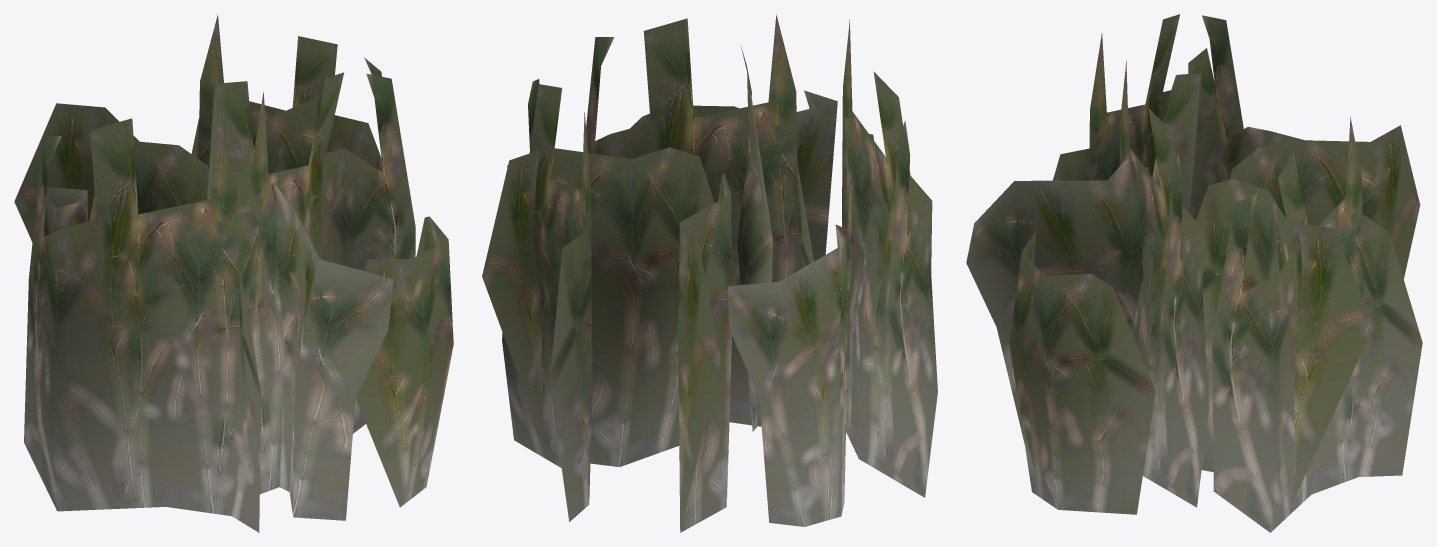
The model's file is proc_sml_reeds_01b.FBX.
The picture shows the model from 3 angles, left to right: view 1: azimuth 30°, elevation 25°; view 2: azimuth 150°, elevation 25°; view 3: azimuth 270°, elevation 25°; orthographic projection. The views are drawn at different scales.
Visible parts, largest first — view 1: proc_sml_reeds_01b; view 2: proc_sml_reeds_01b; view 3: proc_sml_reeds_01b.
Part boxes in pixels (x1,y1,x2,y2): proc_sml_reeds_01b: (14,14,453,532); proc_sml_reeds_01b: (482,14,937,532); proc_sml_reeds_01b: (966,14,1422,532).
Size of the model in its own units: 1.69 by 1.84 by 1.74.
Materials: 1 (1 with a texture image).
